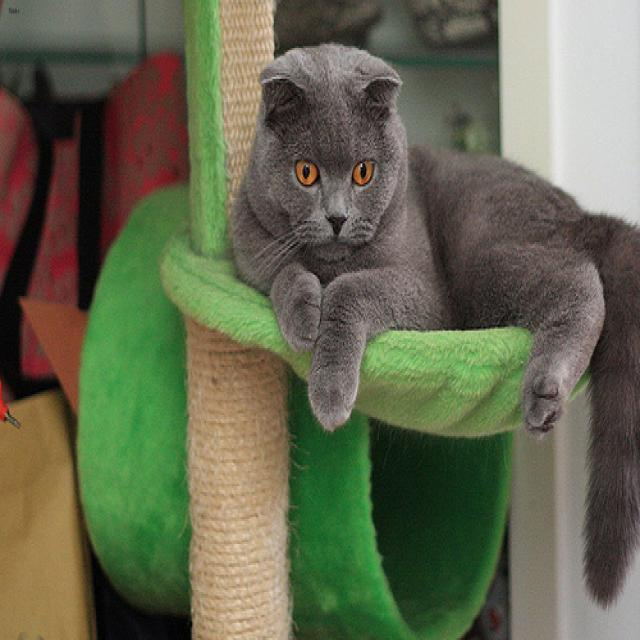British_Shorthair: (256, 41, 401, 260)
